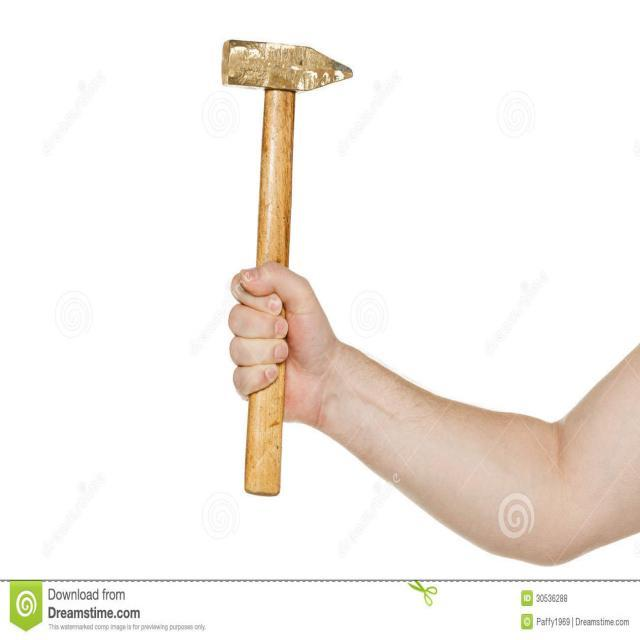hammer: (217, 30, 357, 502)
